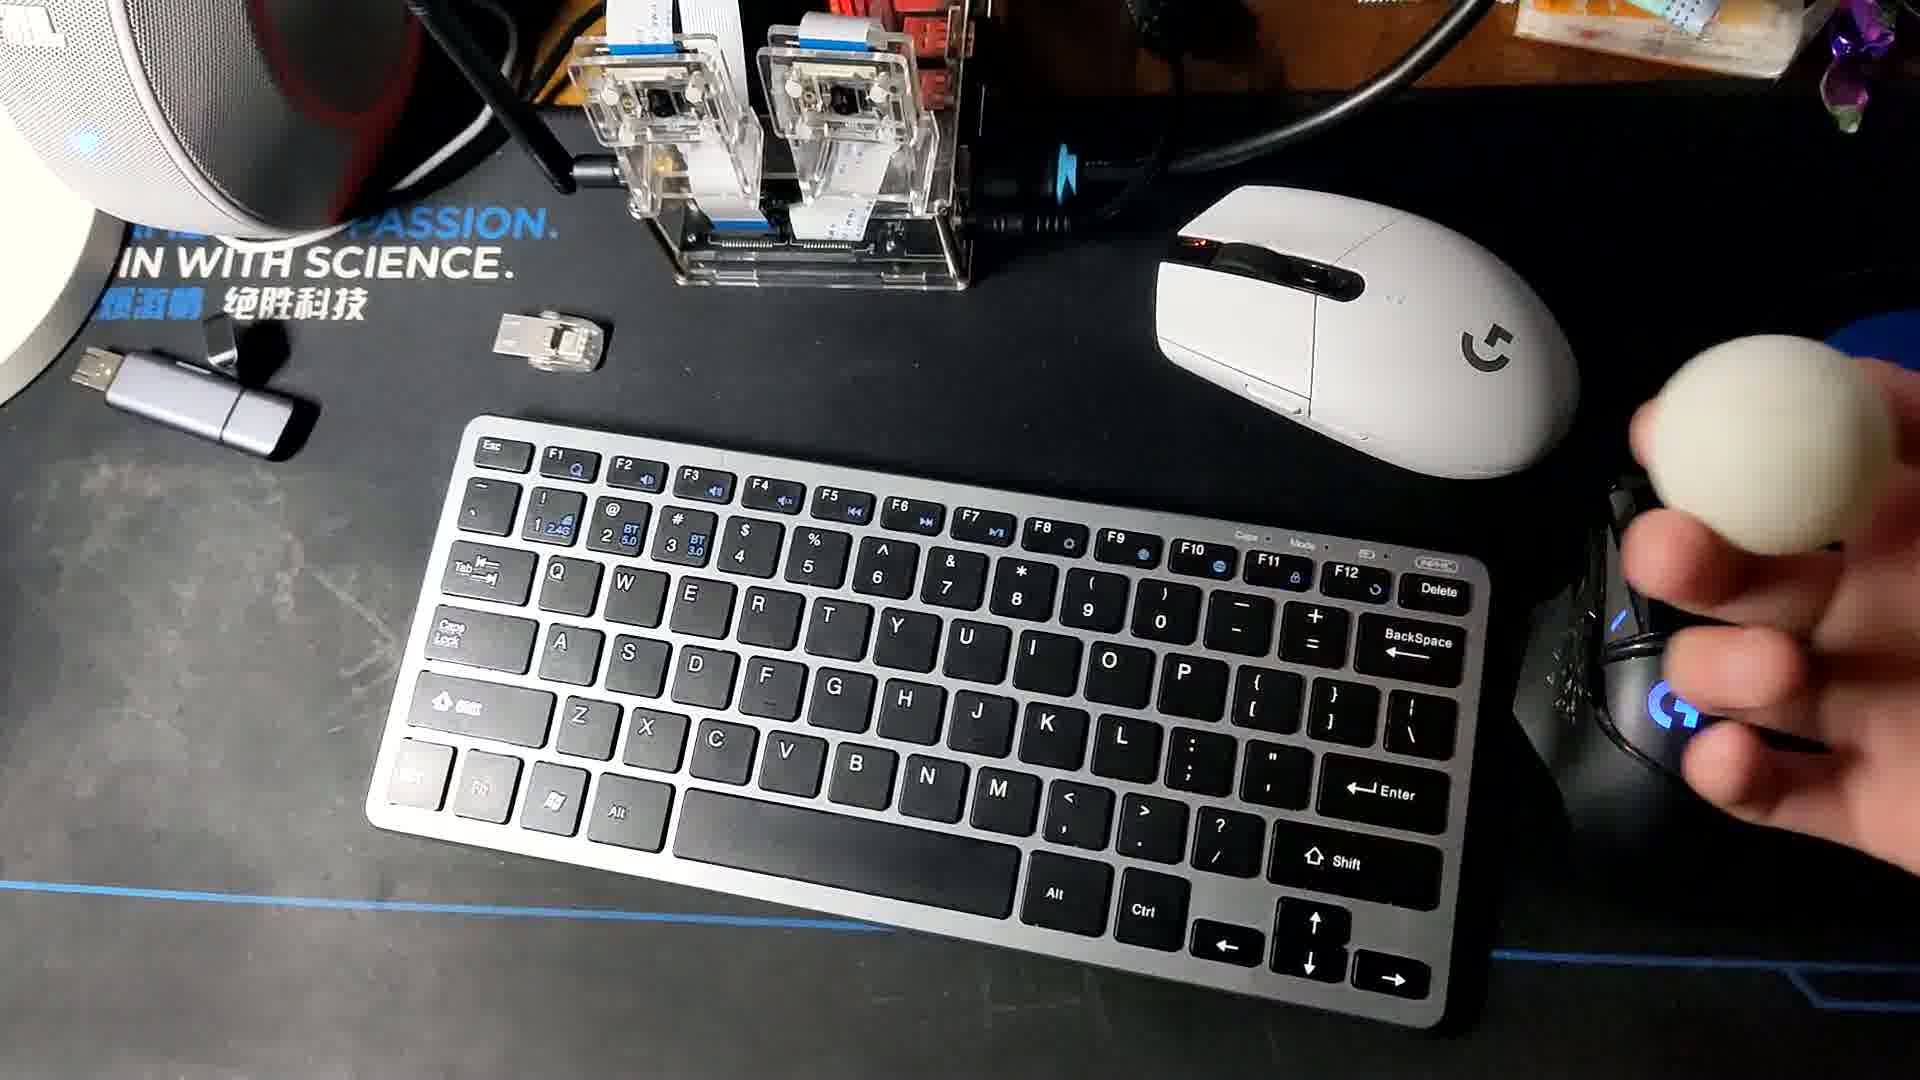Ball: (1655, 335, 1898, 550)
